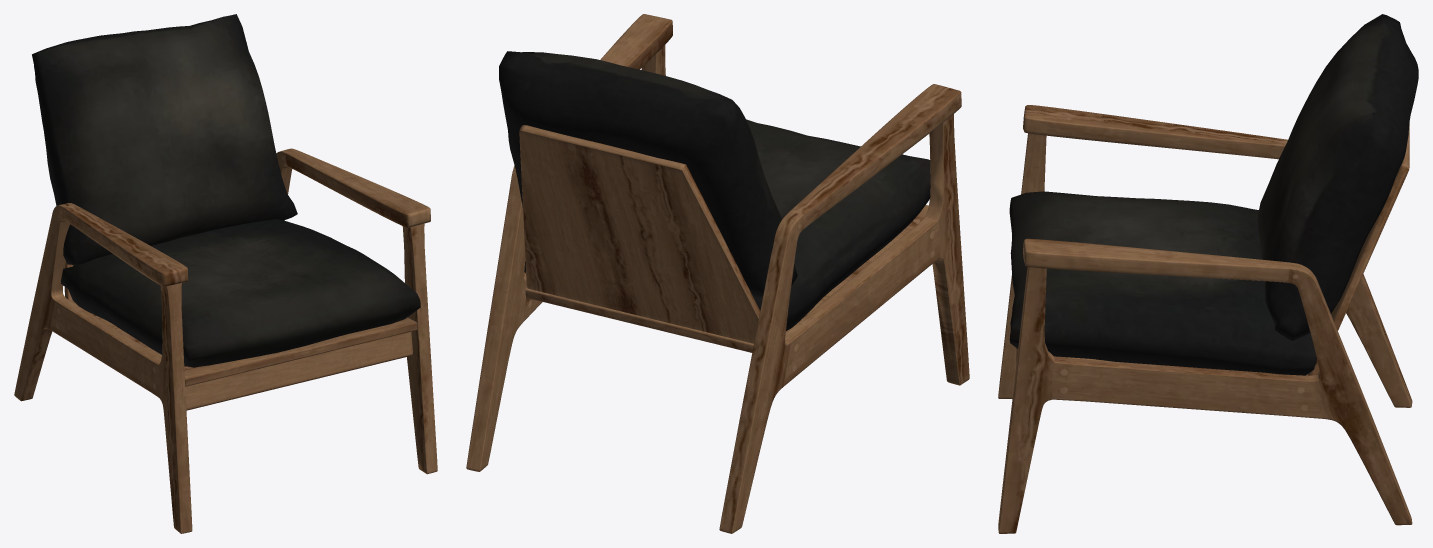
Rendered from modern_arm_chair_01.glb.
3 renders of one model, left to right at view 1: azimuth 30°, elevation 25°; view 2: azimuth 150°, elevation 25°; view 3: azimuth 270°, elevation 25°, orthographic. The views are drawn at different scales.
Visible parts, largest first — view 1: modern_arm_chair_01; view 2: modern_arm_chair_01; view 3: modern_arm_chair_01.
Boxes of the visible parts, x1,y1,x2,y2 form: modern_arm_chair_01: [14, 14, 437, 533]; modern_arm_chair_01: [466, 14, 969, 533]; modern_arm_chair_01: [998, 14, 1418, 533].
Bounding box in the file's own units: 0.8203 × 1.02 × 0.9865.
Materials: 2 (2 with a texture image).
